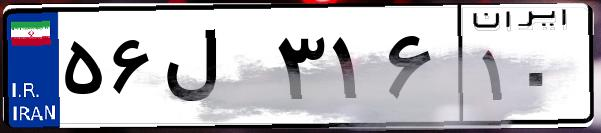0: (525, 38, 570, 115)
1: (330, 28, 385, 110), (475, 38, 525, 113)
3: (270, 28, 330, 110)
5: (57, 26, 110, 100)
6: (385, 28, 445, 110), (110, 28, 158, 98)
ل: (158, 20, 270, 120)
